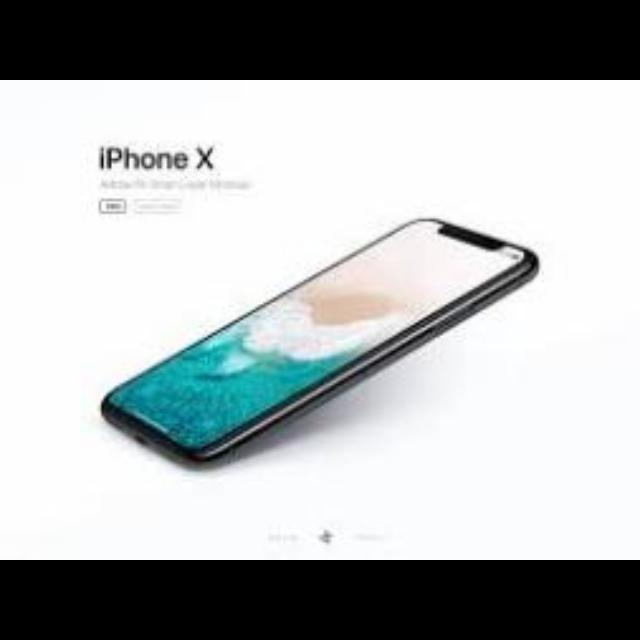phone: (82, 187, 540, 465)
